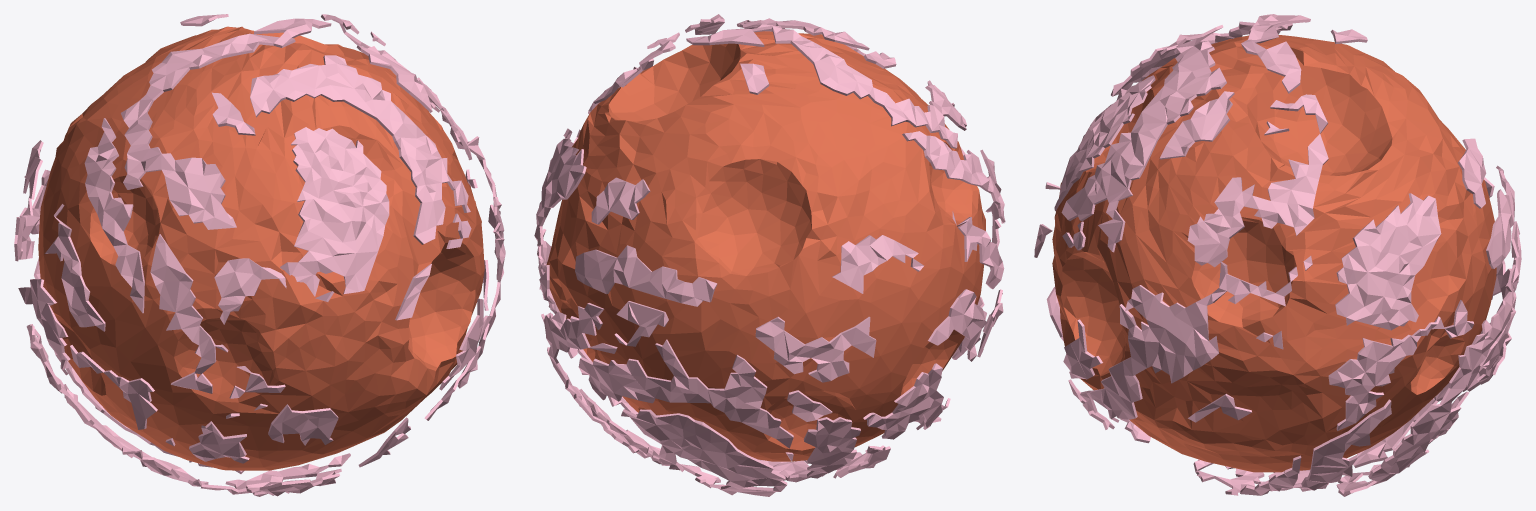
File: Planet_4.glb
3 renders of one model, left to right at view 1: azimuth 30°, elevation 25°; view 2: azimuth 150°, elevation 25°; view 3: azimuth 270°, elevation 25°, orthographic. The views are drawn at different scales.
Parts seen in each view (by area): view 1: Planet_4; view 2: Planet_4; view 3: Planet_4.
Part boxes in pixels (x1,y1,x2,y2): Planet_4: (14, 14, 505, 496); Planet_4: (534, 14, 1005, 496); Planet_4: (1034, 14, 1521, 496).
Size of the model in its own units: 21.98 by 21.73 by 21.8.
1 material, 1 textured.
